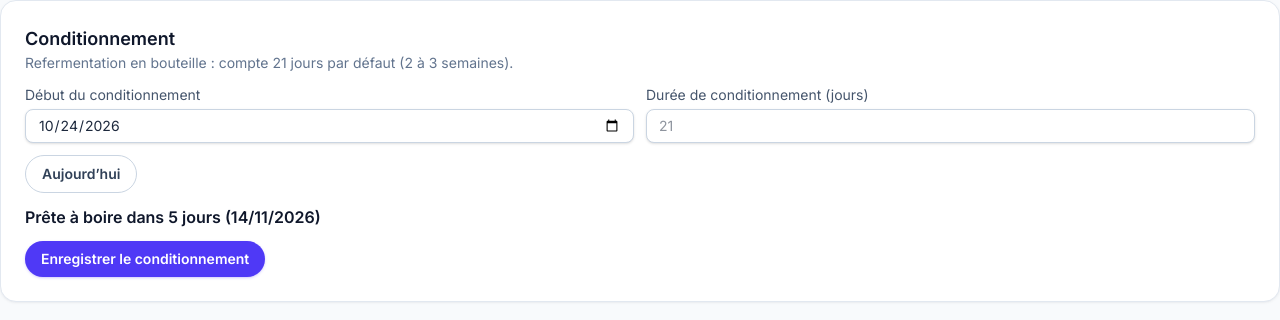
Test: ConditioningCard › affiche l’erreur d’enregistrement
The width and height of the screenshot is (1280, 320).
In the date field labelled "Début du conditionnement": (330, 126) [25,109,634,143], type "2026-10-25"
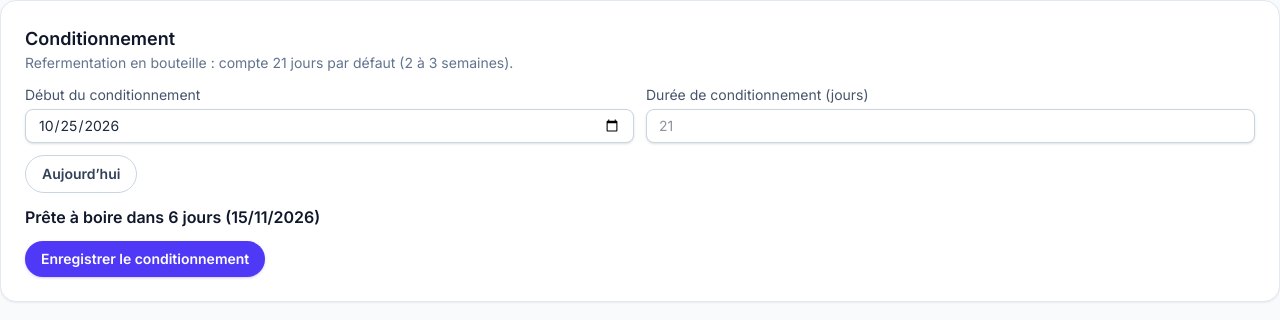
Click the button "Enregistrer le conditionnement": click(145, 259) [25,241,265,277]
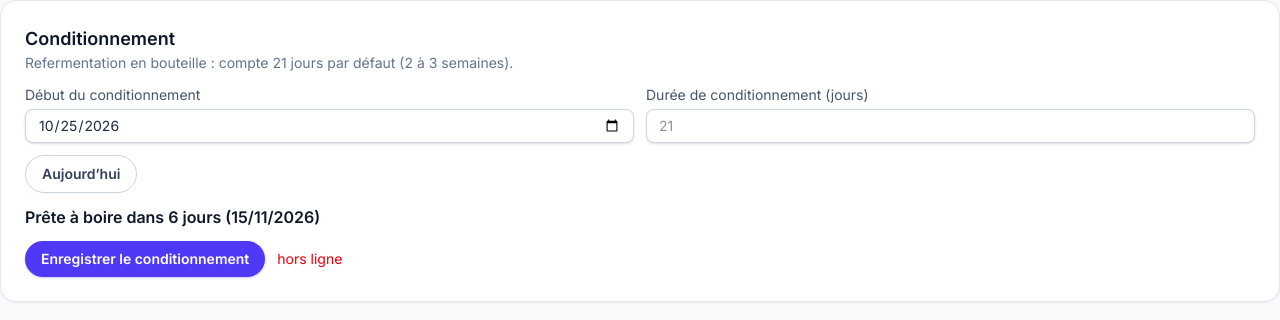
expect the text "hors ligne" is shown: met, box [277,249,342,269]
